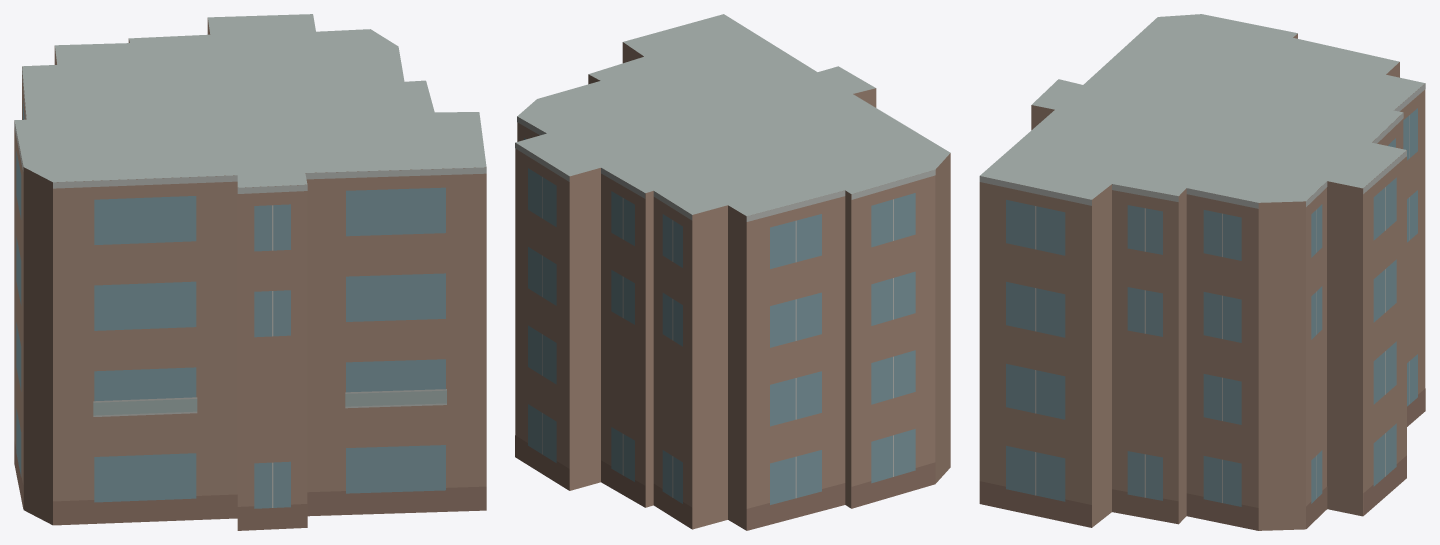
The model's file is survey-upis-32616239.glb.
3 renders of one model, left to right at view 1: azimuth 30°, elevation 25°; view 2: azimuth 150°, elevation 25°; view 3: azimuth 270°, elevation 25°, orthographic. The views are drawn at different scales.
Visible parts, largest first — view 1: survey-upis-32616239.tmp; view 2: survey-upis-32616239.tmp; view 3: survey-upis-32616239.tmp.
Boxes of the visible parts, x1,y1,x2,y2 form: survey-upis-32616239.tmp: (14,14,486,530); survey-upis-32616239.tmp: (515,14,950,530); survey-upis-32616239.tmp: (979,14,1425,530).
Bounding box in the file's own units: 16.31 × 13.2 × 16.27.
